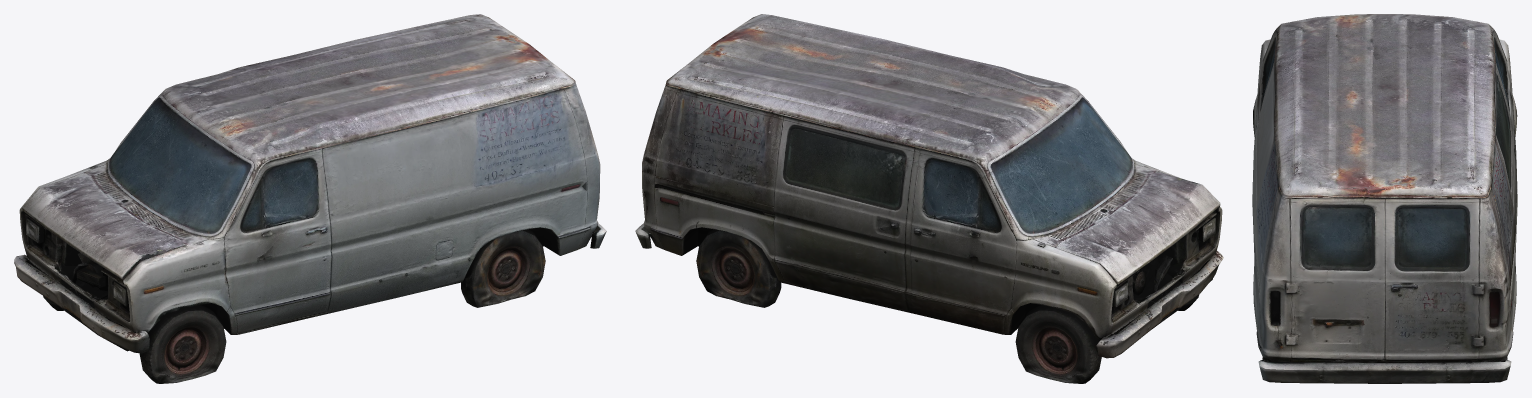
File: abandoned_van.glb
3 views of the same model, side by side, from view 1: azimuth 30°, elevation 25°; view 2: azimuth 150°, elevation 25°; view 3: azimuth 270°, elevation 25° (orthographic). The views are drawn at different scales.
Visible parts, largest first — view 1: default001_Material #105_0; view 2: default001_Material #105_0; view 3: default001_Material #105_0.
Part boxes in pixels (x1=…): default001_Material #105_0: x1=14, y1=14, x2=606, y2=383; default001_Material #105_0: x1=635, y1=14, x2=1223, y2=383; default001_Material #105_0: x1=1252, y1=14, x2=1517, y2=383.
Size of the model in its own units: 151 by 61.14 by 65.14.
Materials: 1 (1 with a texture image).
